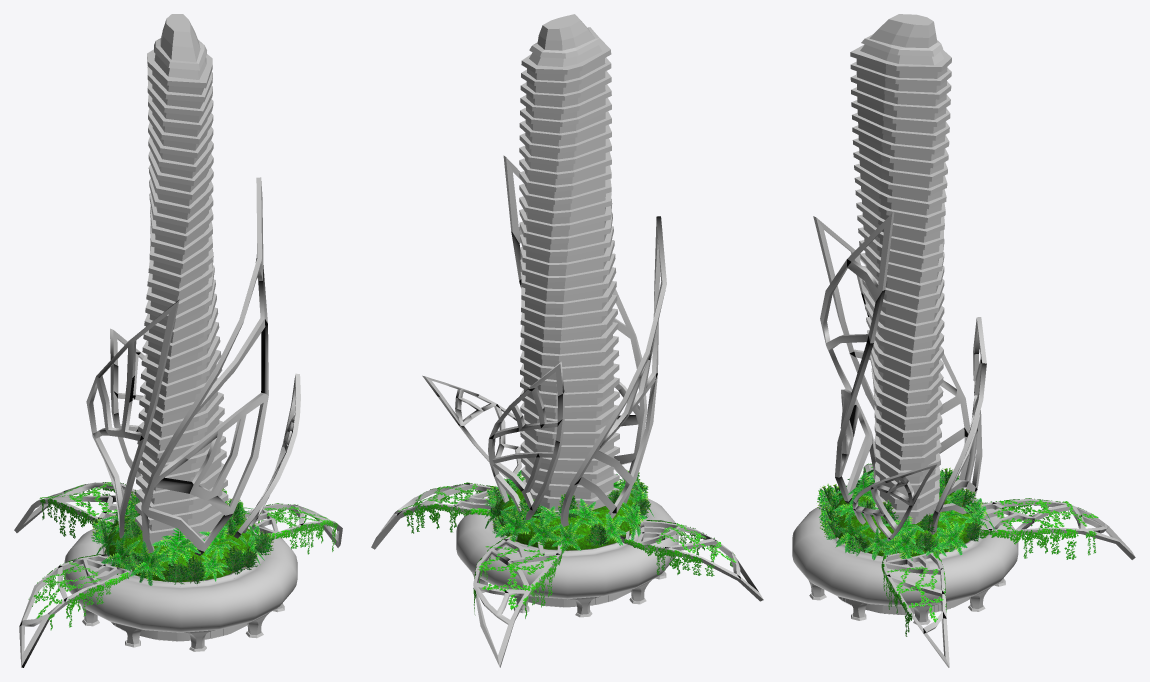
File: SM_GlassTower.fbx
3 views of the same model, side by side, from view 1: azimuth 30°, elevation 25°; view 2: azimuth 150°, elevation 25°; view 3: azimuth 270°, elevation 25° (orthographic). The views are drawn at different scales.
Visible parts, largest first — view 1: GlassTower_Tower_LOD0, GlassTower_Leaves_LOD0, GlassTower_Dome_LOD0, Ivy_LOD0, Fern_LOD0, Bush_LOD0, Base_Vegetation_LOD0, GlassTower_Columns_LOD0; view 2: GlassTower_Tower_LOD0, GlassTower_Leaves_LOD0, GlassTower_Dome_LOD0, Ivy_LOD0, Fern_LOD0, Base_Vegetation_LOD0, Bush_LOD0, GlassTower_Columns_LOD0; view 3: GlassTower_Tower_LOD0, GlassTower_Leaves_LOD0, GlassTower_Dome_LOD0, Fern_LOD0, Ivy_LOD0, Bush_LOD0, Base_Vegetation_LOD0, GlassTower_Columns_LOD0.
Boxes of the visible parts, x1,y1,x2,y2 form: GlassTower_Tower_LOD0: [135, 14, 228, 544]; GlassTower_Leaves_LOD0: [14, 177, 342, 667]; GlassTower_Dome_LOD0: [64, 519, 297, 641]; Ivy_LOD0: [28, 482, 337, 630]; Fern_LOD0: [96, 503, 264, 585]; Bush_LOD0: [91, 488, 274, 584]; Base_Vegetation_LOD0: [105, 515, 255, 582]; GlassTower_Columns_LOD0: [81, 603, 284, 651]; GlassTower_Tower_LOD0: [519, 14, 619, 515]; GlassTower_Leaves_LOD0: [371, 155, 763, 667]; GlassTower_Dome_LOD0: [456, 497, 678, 607]; Ivy_LOD0: [397, 482, 736, 618]; Fern_LOD0: [485, 470, 653, 553]; Base_Vegetation_LOD0: [498, 486, 638, 550]; Bush_LOD0: [484, 470, 650, 546]; GlassTower_Columns_LOD0: [472, 570, 666, 617]; GlassTower_Tower_LOD0: [850, 14, 951, 525]; GlassTower_Leaves_LOD0: [813, 211, 1135, 667]; GlassTower_Dome_LOD0: [792, 499, 1018, 614]; Fern_LOD0: [819, 469, 995, 560]; Ivy_LOD0: [863, 463, 1098, 636]; Bush_LOD0: [817, 467, 982, 556]; Base_Vegetation_LOD0: [834, 487, 977, 556]; GlassTower_Columns_LOD0: [808, 578, 1005, 624].
Size of what is drawn, in the model's own units: 86.71 by 132 by 72.83.
